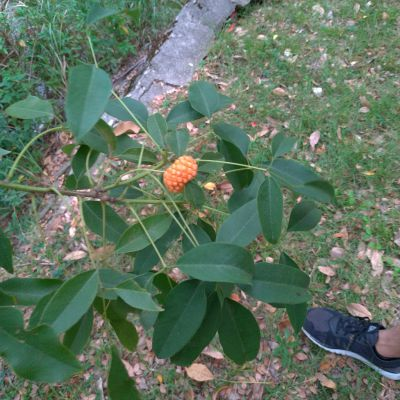eggs: (158, 149, 203, 192)
